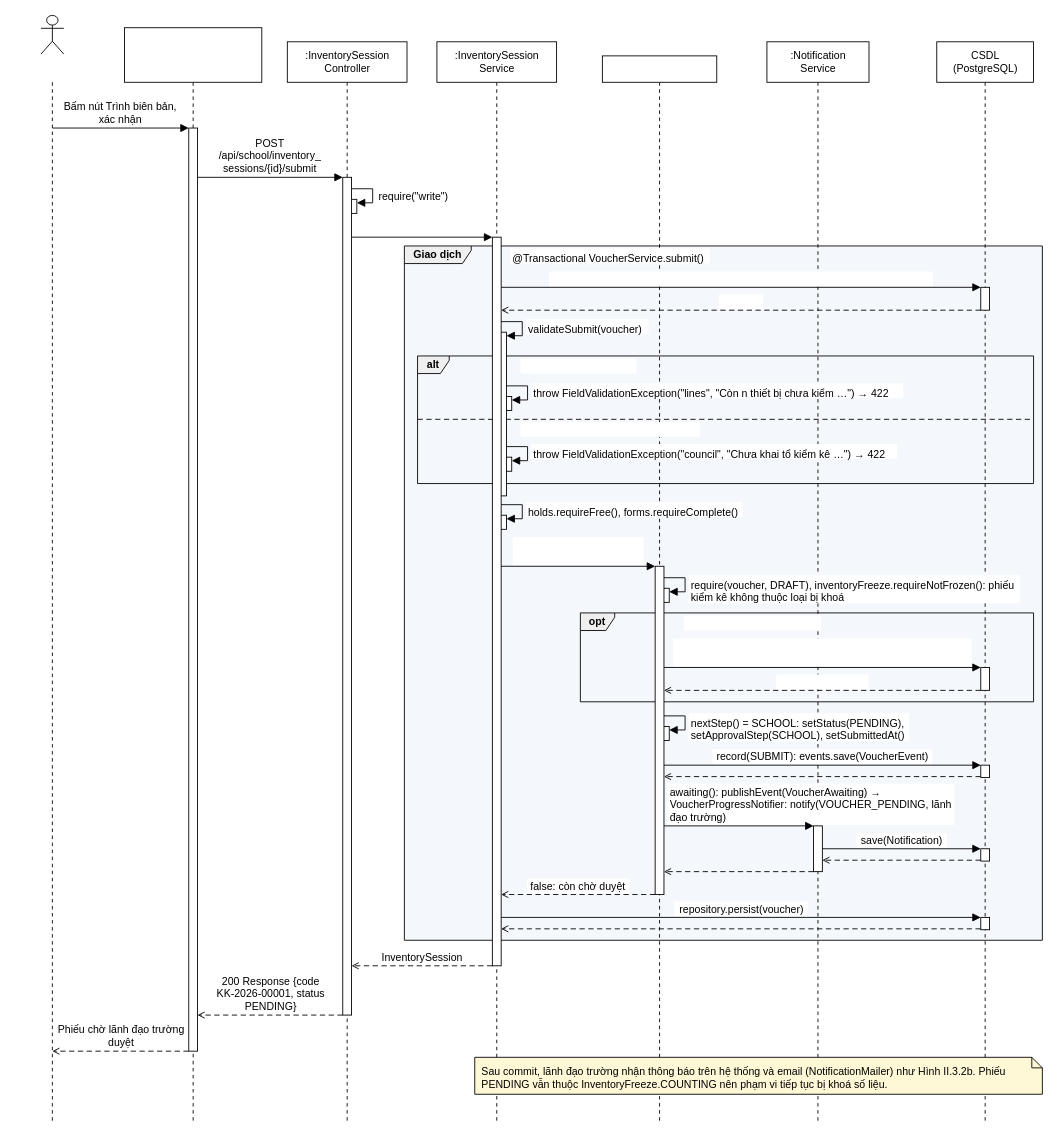
Image size: 1058x1139. Some labels were removed from this diagram. Each missing label, with the centre of its shape:
"KK-2026-00001": (822,681)
:VoucherWorkflow: (659,68)
[council trống: chưa khai tổ kiểm kê]: (610,429)
[còn dòng found = null]: (578,365)
[voucher.getCode() == null]: (752,622)
Cán bộ thiết bị trường: (52,34)
numbers.reserve(school, "KK", inventoryDate): INSERT … ON CONFLICT … RETURNING: (822,652)
submit(id): (421,228)
voucher: (740,301)
workflow.submit(voucher, "inventory_sessions"): (577,551)
writable(id), lockAndReread(voucher): khoá dòng phiếu (PESSIMISTIC_WRITE): (741,278)
«Giao diện» InventorySessionShow (VoucherActions): (193,54)
